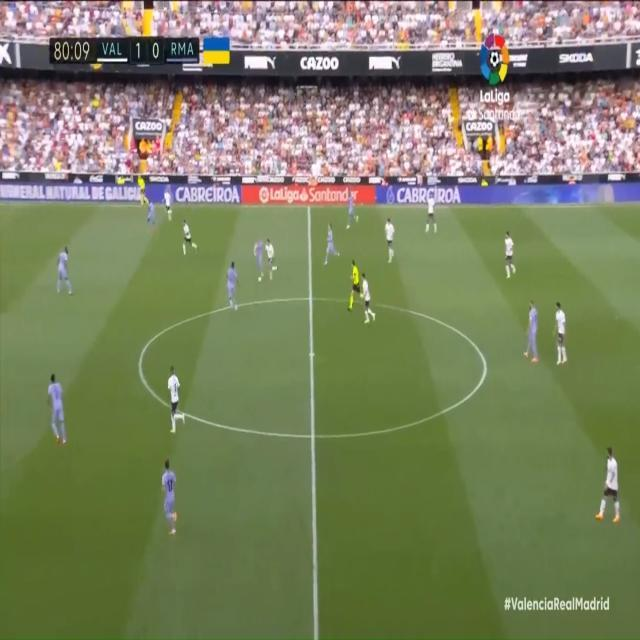ball: (255, 272, 264, 289)
player: (593, 445, 621, 523), (160, 454, 181, 540), (46, 370, 68, 450), (523, 292, 542, 368), (166, 363, 186, 433), (554, 298, 569, 369), (56, 240, 74, 298), (225, 260, 242, 316), (180, 218, 202, 257), (324, 221, 342, 267), (382, 213, 396, 271), (361, 268, 375, 325), (252, 238, 268, 284), (504, 225, 516, 280), (346, 184, 359, 231), (425, 193, 437, 236), (162, 188, 176, 223), (266, 236, 276, 284), (148, 195, 156, 234)
referee: (346, 258, 365, 316), (135, 174, 148, 208)
